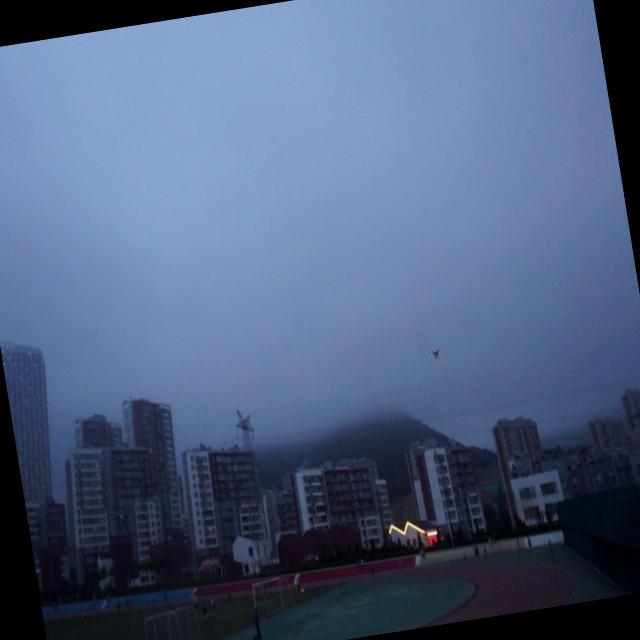drone: (428, 343, 444, 366)
